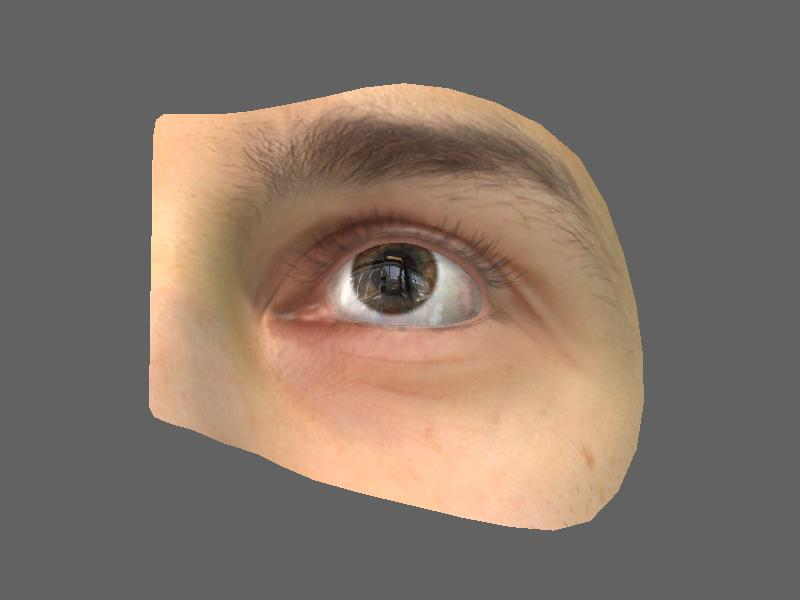iris: (356, 237, 454, 314)
